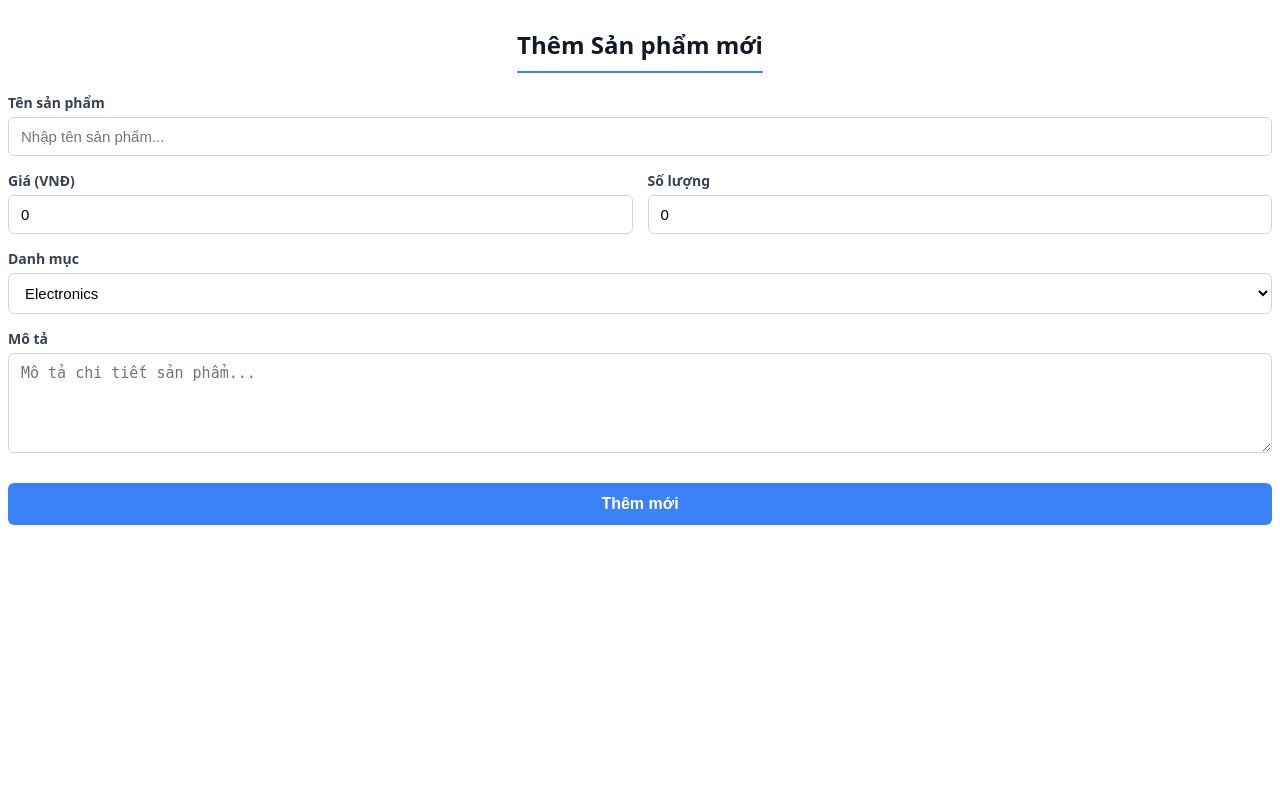
Scenario: Product Management Mock Tests (Full CRUD) › CREATE: Thất bại do Validation
Click the button with test id "submit-btn": (640, 504) [8, 483, 1272, 525]
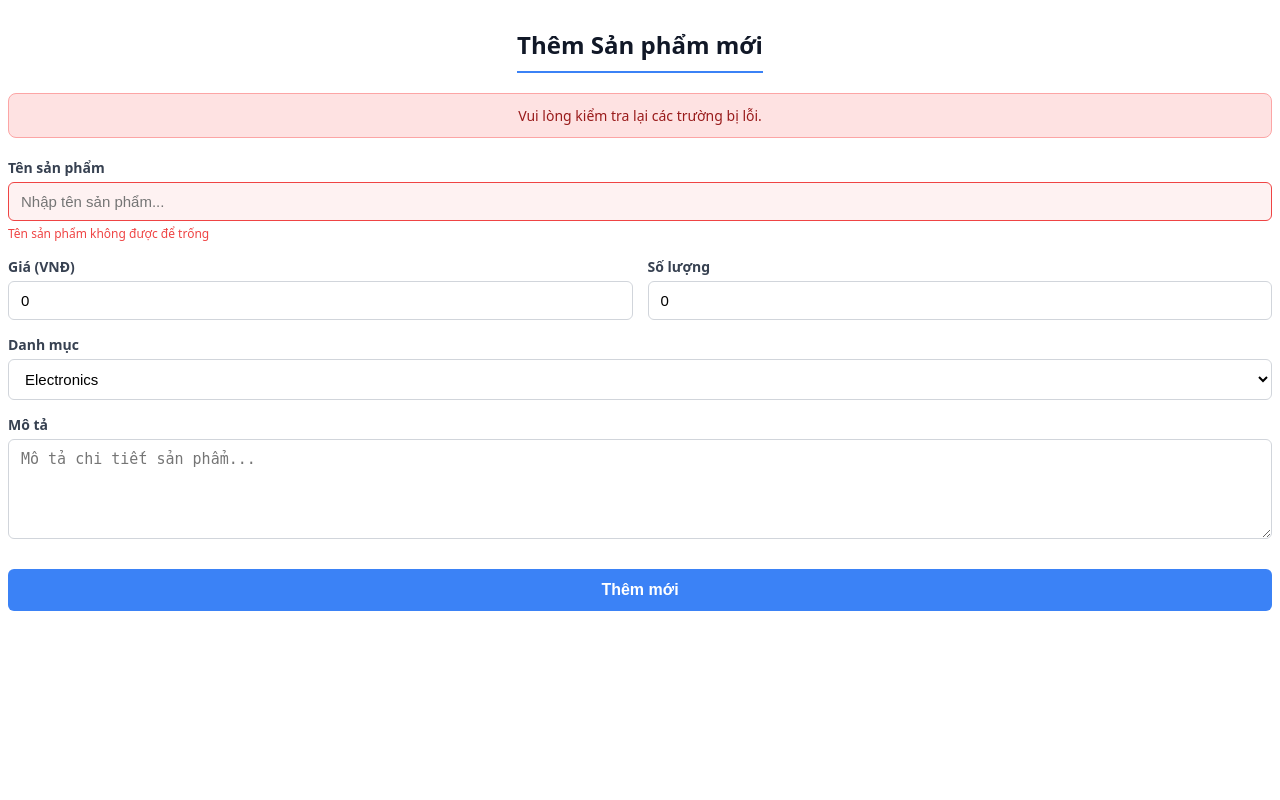
Check: the text with test id "error-name" reads "Tên sản phẩm không được để trống", box [8, 225, 209, 242]
